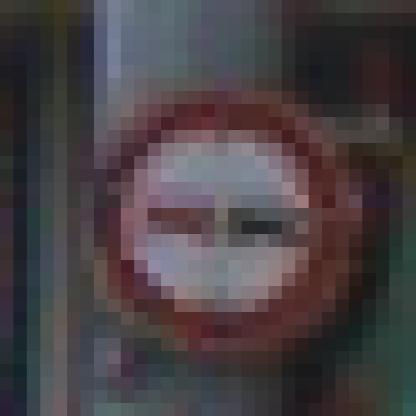No Overtaking: (81, 79, 350, 352)
